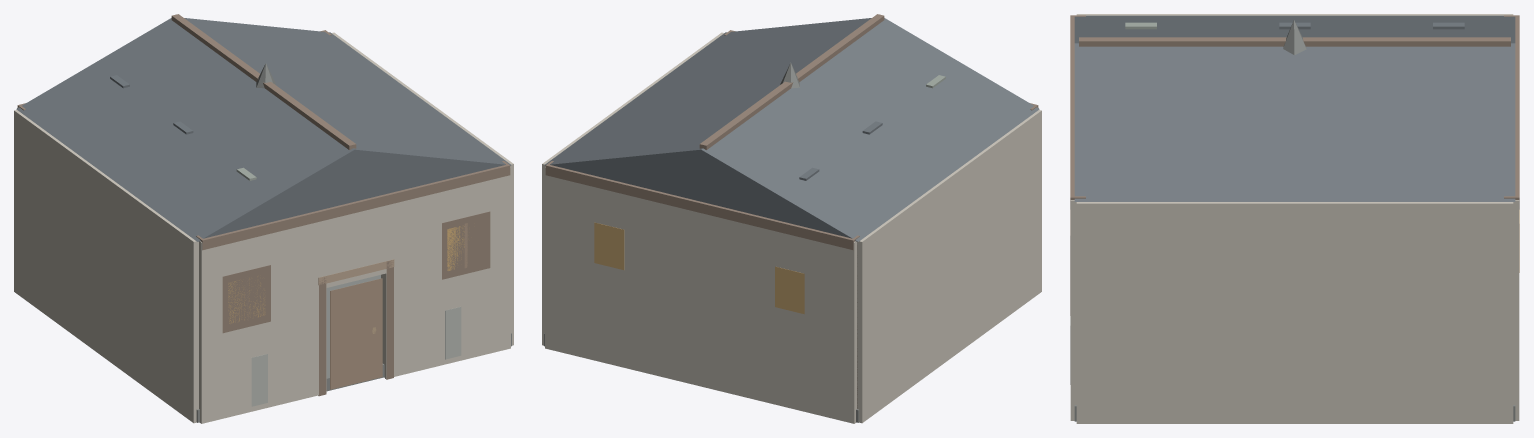
The model's file is mourners_ossuary_inhabited.glb.
3 views of the same model, side by side, from view 1: azimuth 30°, elevation 25°; view 2: azimuth 150°, elevation 25°; view 3: azimuth 270°, elevation 25° (orthographic). The views are drawn at different scales.
Parts seen in each view (by area): view 1: mourners_ossuary_mat_01, mourners_ossuary_mat_07, mourners_ossuary_mat_02, mourners_ossuary_mat_04, mourners_ossuary_mat_09, mourners_ossuary_mat_00, mourners_ossuary_mat_06, mourners_ossuary_mat_03; view 2: mourners_ossuary_mat_01, mourners_ossuary_mat_07, mourners_ossuary_mat_02, mourners_ossuary_mat_06; view 3: mourners_ossuary_mat_01, mourners_ossuary_mat_07, mourners_ossuary_mat_02, mourners_ossuary_mat_00.
Part boxes in pixels (x1,y1,x2,y2): mourners_ossuary_mat_01: (14, 32, 513, 423); mourners_ossuary_mat_07: (16, 18, 511, 241); mourners_ossuary_mat_02: (17, 14, 510, 396); mourners_ossuary_mat_04: (245, 223, 467, 389); mourners_ossuary_mat_09: (251, 307, 461, 406); mourners_ossuary_mat_00: (196, 63, 511, 422); mourners_ossuary_mat_06: (228, 225, 464, 323); mourners_ossuary_mat_03: (318, 259, 394, 285); mourners_ossuary_mat_01: (542, 32, 1041, 423); mourners_ossuary_mat_07: (544, 18, 1039, 241); mourners_ossuary_mat_02: (545, 14, 1038, 408); mourners_ossuary_mat_06: (594, 222, 804, 314); mourners_ossuary_mat_01: (1070, 14, 1519, 423); mourners_ossuary_mat_07: (1074, 15, 1515, 201); mourners_ossuary_mat_02: (1070, 15, 1519, 315); mourners_ossuary_mat_00: (1074, 20, 1515, 421).
Size of the model in its own units: 3.97 by 3.04 by 3.98.
